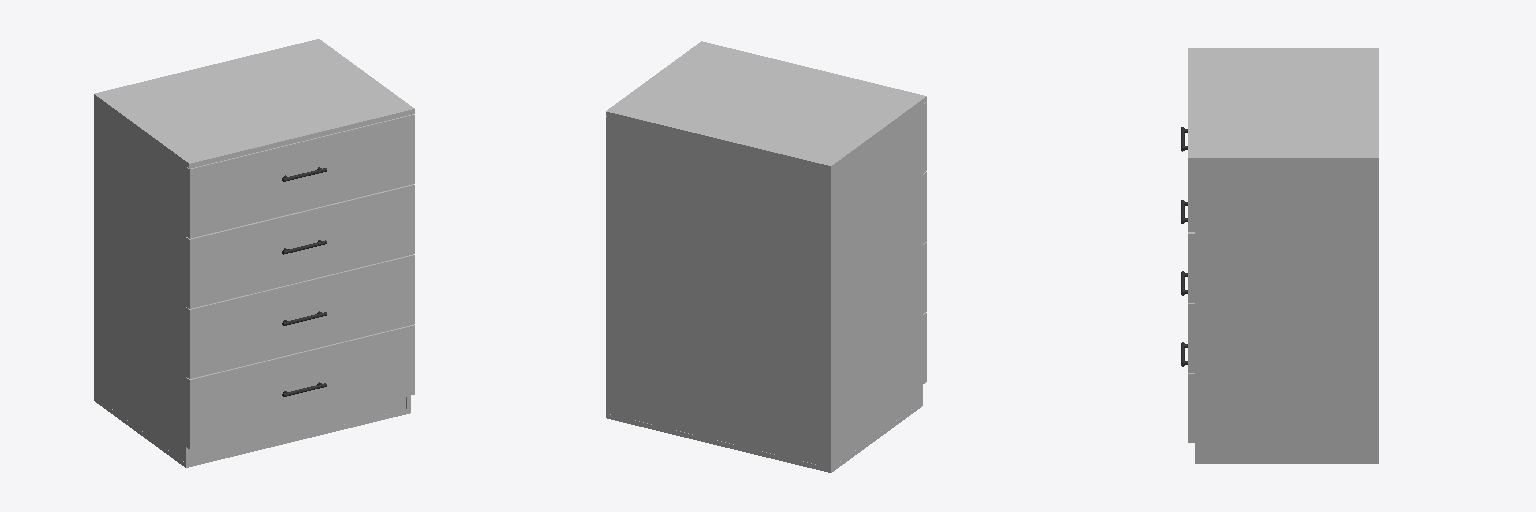
File: ИНТЕРО.obj
3 renders of one model, left to right at view 1: azimuth 30°, elevation 25°; view 2: azimuth 150°, elevation 25°; view 3: azimuth 270°, elevation 25°, orthographic.
Visible parts, largest first — view 1: Cube.009_Cube.010, Cube.003_Cube.004, Cube.004_Cube.005, Cylinder.003_Cylinder.005; view 2: Cube.003_Cube.004, Cube.009_Cube.010; view 3: Cube.003_Cube.004, Cube.009_Cube.010.
Boxes of the visible parts, x1=… form: Cube.009_Cube.010: x1=186, y1=114, x2=414, y2=448; Cube.003_Cube.004: x1=94, y1=39, x2=414, y2=467; Cube.004_Cube.005: x1=191, y1=397, x2=405, y2=461; Cylinder.003_Cylinder.005: x1=282, y1=167, x2=326, y2=396; Cube.003_Cube.004: x1=606, y1=41, x2=926, y2=472; Cube.009_Cube.010: x1=923, y1=102, x2=926, y2=383; Cube.003_Cube.004: x1=1188, y1=48, x2=1378, y2=463; Cube.009_Cube.010: x1=1188, y1=163, x2=1194, y2=442.
Bounding box in the file's own units: 1.2 × 1.56 × 0.915.